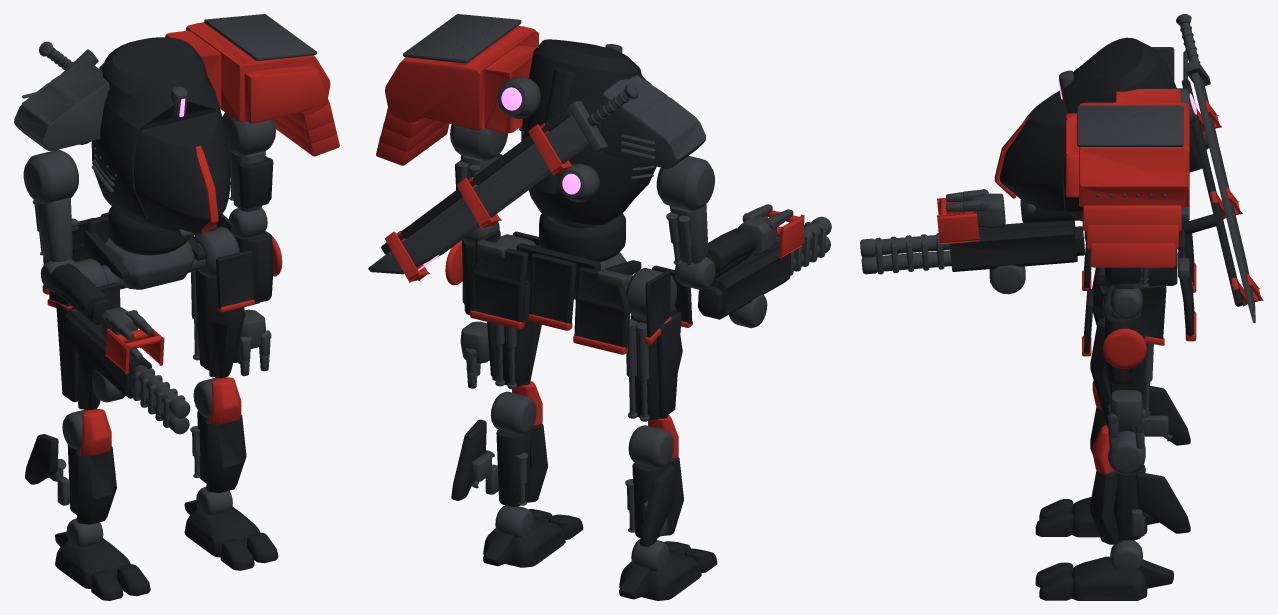
Rendered from Titan_L2.fbx.
3 views of the same model, side by side, from view 1: azimuth 30°, elevation 25°; view 2: azimuth 150°, elevation 25°; view 3: azimuth 270°, elevation 25° (orthographic). The views are drawn at different scales.
Parts seen in each view (by area): view 1: L2_Torso_Upper, L2_Hatch, L2_Pauldron_L, L2_Shoulder_Cap_R, L2_Pauldron_Trim_L, L2_Pelvis, L2_Shotgun_Body, L2_Shin_Plate_L, L2_Shin_Plate_R, L2_UpperArm_Hub_R, L2_Thigh_Plate_L, L2_Waist (+40 smaller); view 2: L2_Torso_Upper, L2_Skirt_Back, L2_Pauldron_L, L2_Sword_Blade, L2_Shoulder_Cap_R, L2_Shotgun_Body, L2_Pauldron_Trim_L, L2_Waist, L2_Rack_Clamps, L2_UpperArm_Hub_R, L2_Pauldron_Lames_L, L2_Phase_Gen (+44 smaller); view 3: L2_Pauldron_L, L2_Pauldron_Lames_L, L2_Hatch, L2_Shotgun_Body, L2_Torso_Upper, L2_Pauldron_Trim_L, L2_Foot_L, L2_Sword_Blade, L2_Shotgun_Barrels, L2_Rack, L2_Calf_Blade_L, L2_Shin_Plate_L (+27 smaller).
Part boxes in pixels (x1,y1,x2,y2): L2_Torso_Upper: [91, 37, 227, 229]; L2_Hatch: [133, 112, 230, 233]; L2_Pauldron_L: [165, 22, 330, 123]; L2_Shoulder_Cap_R: [14, 60, 109, 150]; L2_Pauldron_Trim_L: [204, 14, 316, 60]; L2_Pelvis: [102, 238, 205, 289]; L2_Shotgun_Body: [63, 308, 151, 398]; L2_Shin_Plate_L: [205, 415, 246, 492]; L2_Shin_Plate_R: [75, 446, 116, 524]; L2_UpperArm_Hub_R: [23, 149, 78, 204]; L2_Thigh_Plate_L: [206, 275, 245, 378]; L2_Waist: [108, 206, 190, 255]; L2_Torso_Upper: [521, 39, 656, 225]; L2_Skirt_Back: [471, 248, 630, 348]; L2_Pauldron_L: [385, 25, 538, 133]; L2_Sword_Blade: [368, 115, 589, 274]; L2_Shoulder_Cap_R: [602, 75, 705, 168]; L2_Shotgun_Body: [698, 242, 791, 319]; L2_Pauldron_Trim_L: [403, 14, 521, 63]; L2_Waist: [539, 213, 625, 262]; L2_Rack_Clamps: [385, 123, 572, 282]; L2_UpperArm_Hub_R: [656, 155, 714, 211]; L2_Pauldron_Lames_L: [376, 108, 449, 165]; L2_Phase_Gen: [497, 76, 599, 202]; L2_Pauldron_L: [1065, 89, 1189, 207]; L2_Pauldron_Lames_L: [1082, 205, 1181, 267]; L2_Hatch: [999, 90, 1067, 211]; L2_Shotgun_Body: [949, 221, 1084, 271]; L2_Torso_Upper: [1063, 37, 1171, 221]; L2_Pauldron_Trim_L: [1077, 105, 1183, 146]; L2_Foot_L: [1071, 556, 1147, 600]; L2_Sword_Blade: [1191, 72, 1255, 322]; L2_Shotgun_Barrels: [860, 235, 951, 274]; L2_Rack: [1181, 79, 1243, 306]; L2_Calf_Blade_L: [1136, 472, 1190, 533]; L2_Shin_Plate_L: [1090, 470, 1122, 544].
Size of the model in its own units: 3.54 by 5.87 by 4.24.
